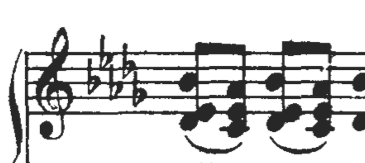flat: (117, 38, 140, 81), (82, 57, 104, 101), (93, 30, 116, 72), (130, 70, 151, 114), (105, 63, 124, 103)
treble_clef: (31, 24, 82, 142)
